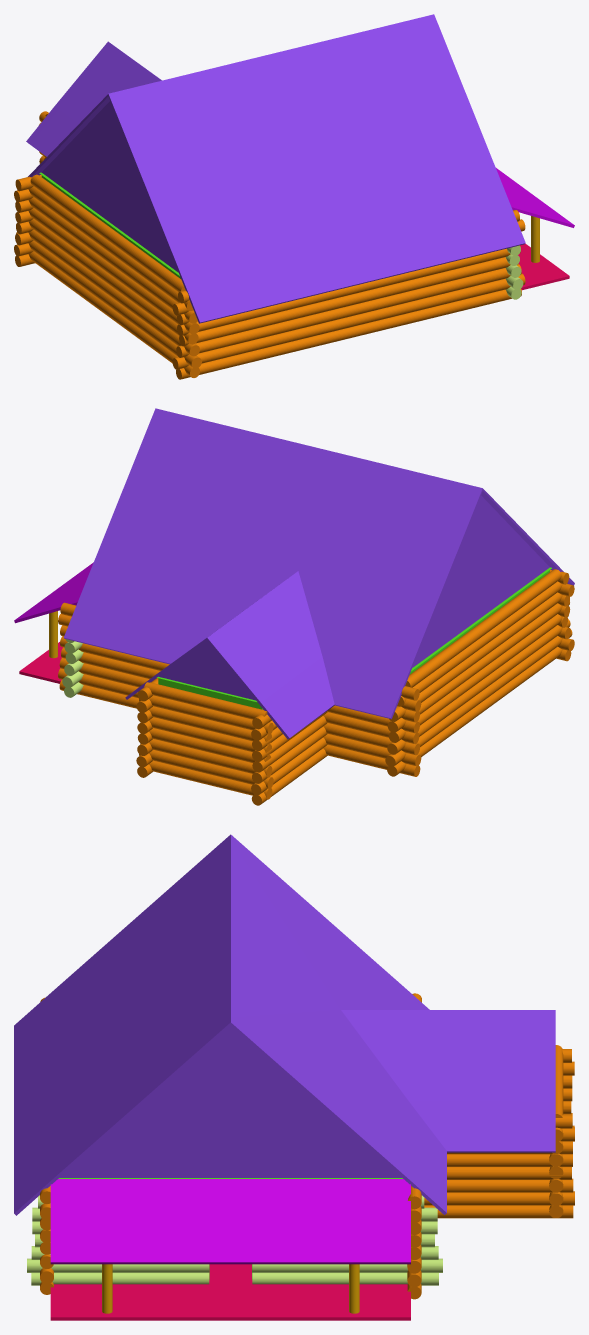
File: shack.fbx
3 renders of one model, top to bottom at view 1: azimuth 30°, elevation 25°; view 2: azimuth 150°, elevation 25°; view 3: azimuth 270°, elevation 25°, orthographic. The views are drawn at different scales.
Parts seen in each view (by area): view 1: Roof, Cylinder.007, Cylinder.001, Cylinder.004, Porch_Roof, Floor, Floor1Walls, Cylinder.002; view 2: Roof, Cylinder.001, Cylinder.008, Cylinder.004, Cylinder.003, Cylinder.006, Floor1Walls, Porch_Roof, Cylinder.005, Cylinder.002, Cylinder.007, Floor; view 3: Roof, Porch_Roof, Floor, Cylinder.002, Cylinder.005, Cylinder.008, Cylinder.003, Cylinder.007, Porch_Fillars, Cylinder.006.
Part boxes in pixels (box(x1,y1,x2,y2)): Roof: box(26, 14, 525, 323); Cylinder.007: box(172, 210, 525, 379); Cylinder.001: box(16, 174, 201, 377); Cylinder.004: box(14, 175, 41, 266); Porch_Roof: box(496, 168, 574, 227); Floor: box(518, 243, 569, 290); Floor1Walls: box(39, 172, 180, 278); Cylinder.002: box(505, 245, 523, 299); Roof: box(63, 408, 574, 739); Cylinder.001: box(385, 569, 572, 776); Cylinder.008: box(139, 682, 273, 799); Cylinder.004: box(323, 686, 421, 776); Cylinder.003: box(58, 602, 169, 708); Cylinder.006: box(251, 711, 327, 805); Floor1Walls: box(157, 567, 551, 709); Porch_Roof: box(14, 562, 93, 623); Cylinder.005: box(136, 678, 158, 777); Cylinder.002: box(62, 619, 83, 697); Cylinder.007: box(550, 570, 574, 661); Floor: box(19, 642, 62, 683); Roof: box(14, 834, 555, 1215); Porch_Roof: box(50, 1179, 410, 1264); Floor: box(50, 1264, 410, 1320); Cylinder.002: box(27, 1195, 442, 1285); Cylinder.005: box(424, 1114, 574, 1218); Cylinder.008: box(549, 1045, 563, 1218); Cylinder.003: box(407, 1186, 421, 1299); Cylinder.007: box(40, 997, 53, 1294); Porch_Fillars: box(102, 1264, 359, 1313); Cylinder.006: box(562, 1049, 574, 1127).
Bounding box in the file's own units: 1563 × 848 × 1589.
